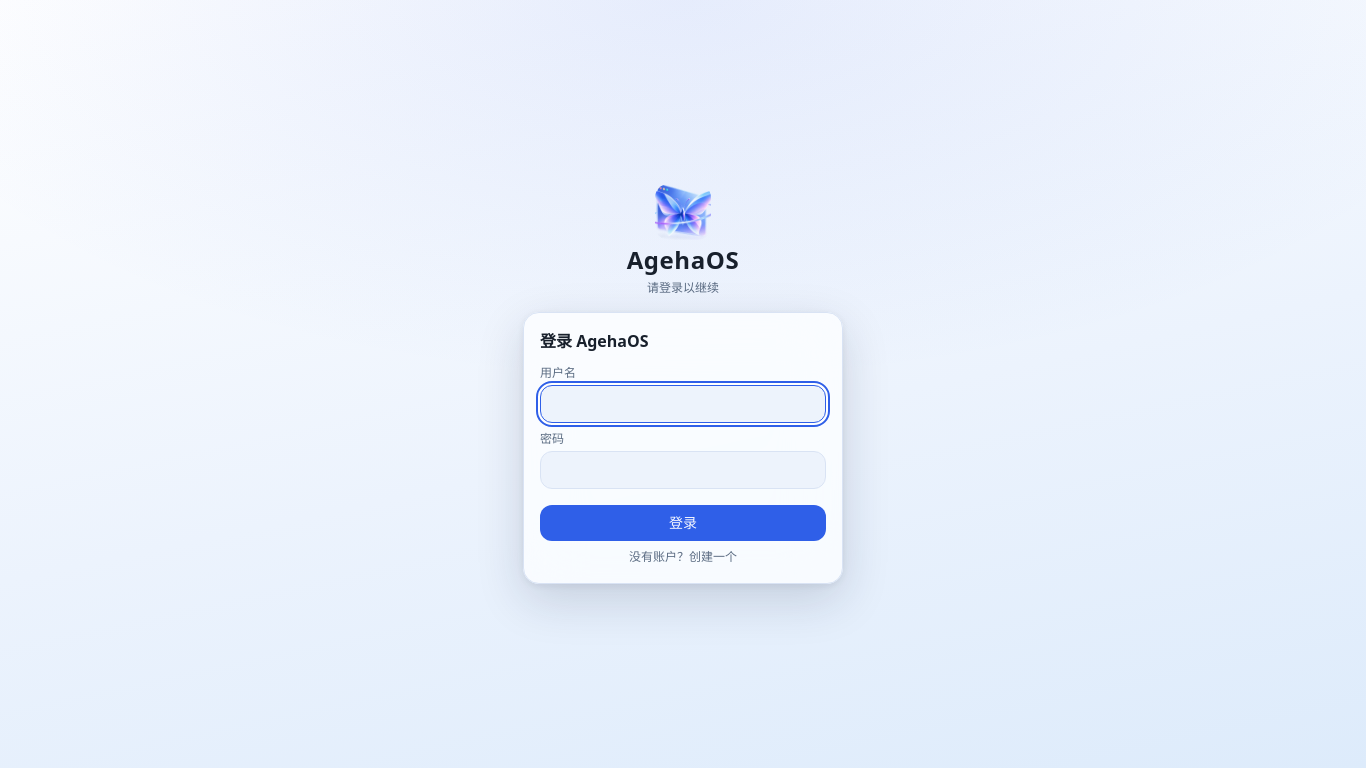
LoginScreen › shows an error for wrong credentials
In the field labelled "用户名": (683,404) [540,385,826,423], type "carol"
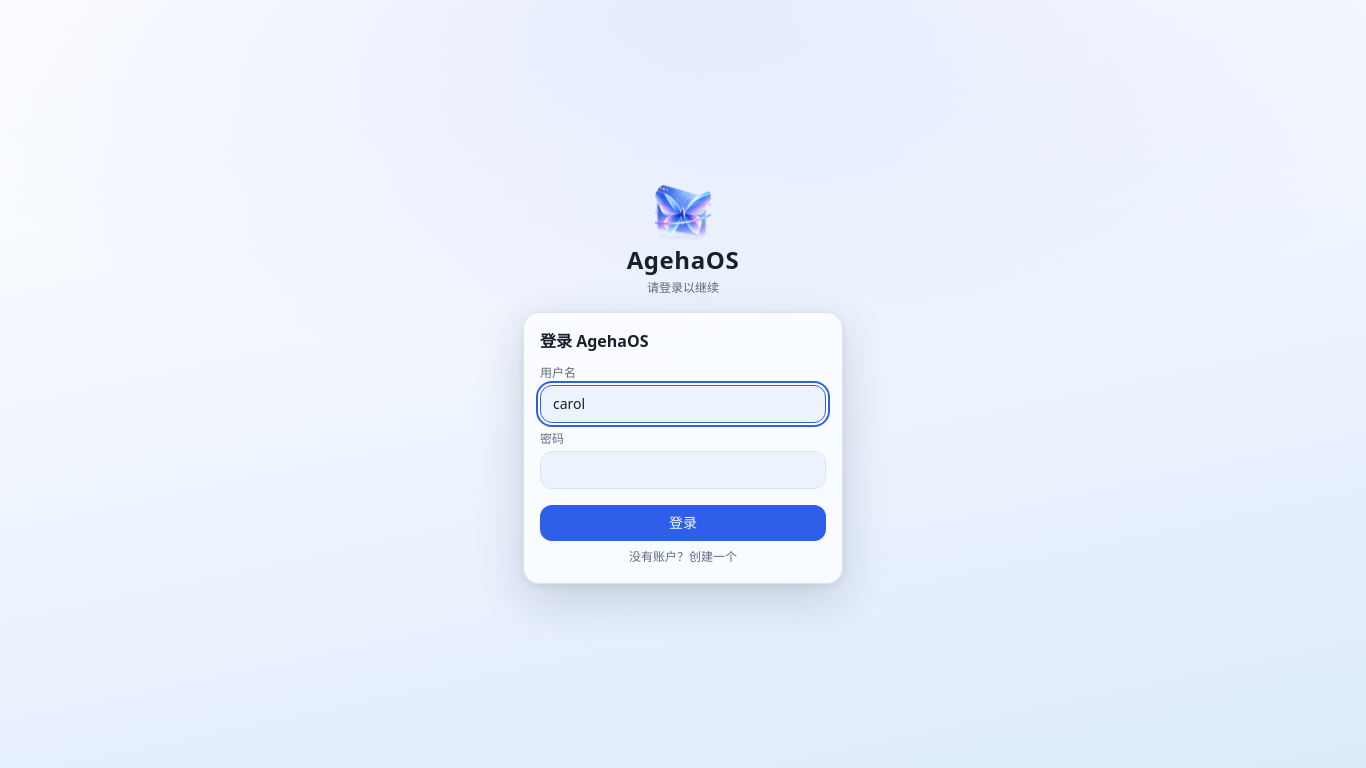
In the password field labelled "密码": (683,470) [540,451,826,489], type "wrong!!"
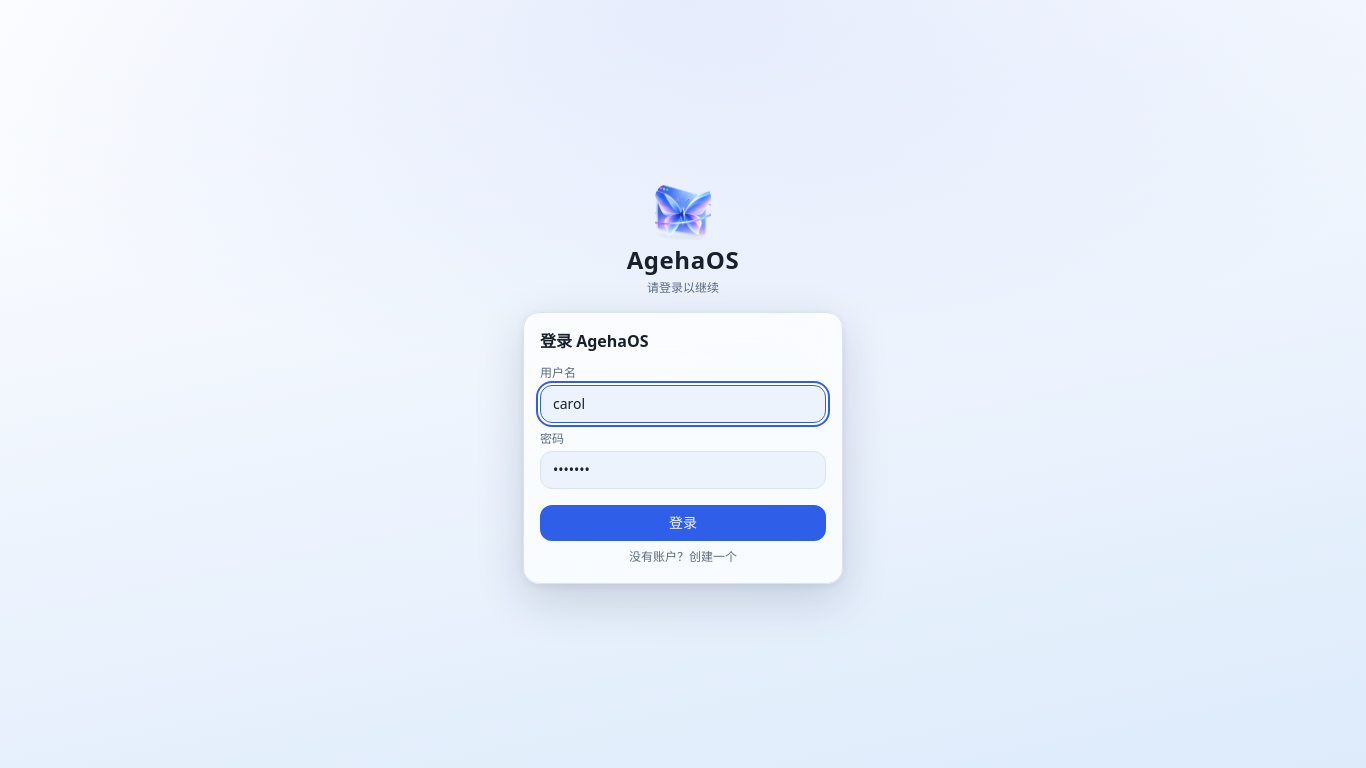
Click the button "登录": (683,523) [540,505,826,541]
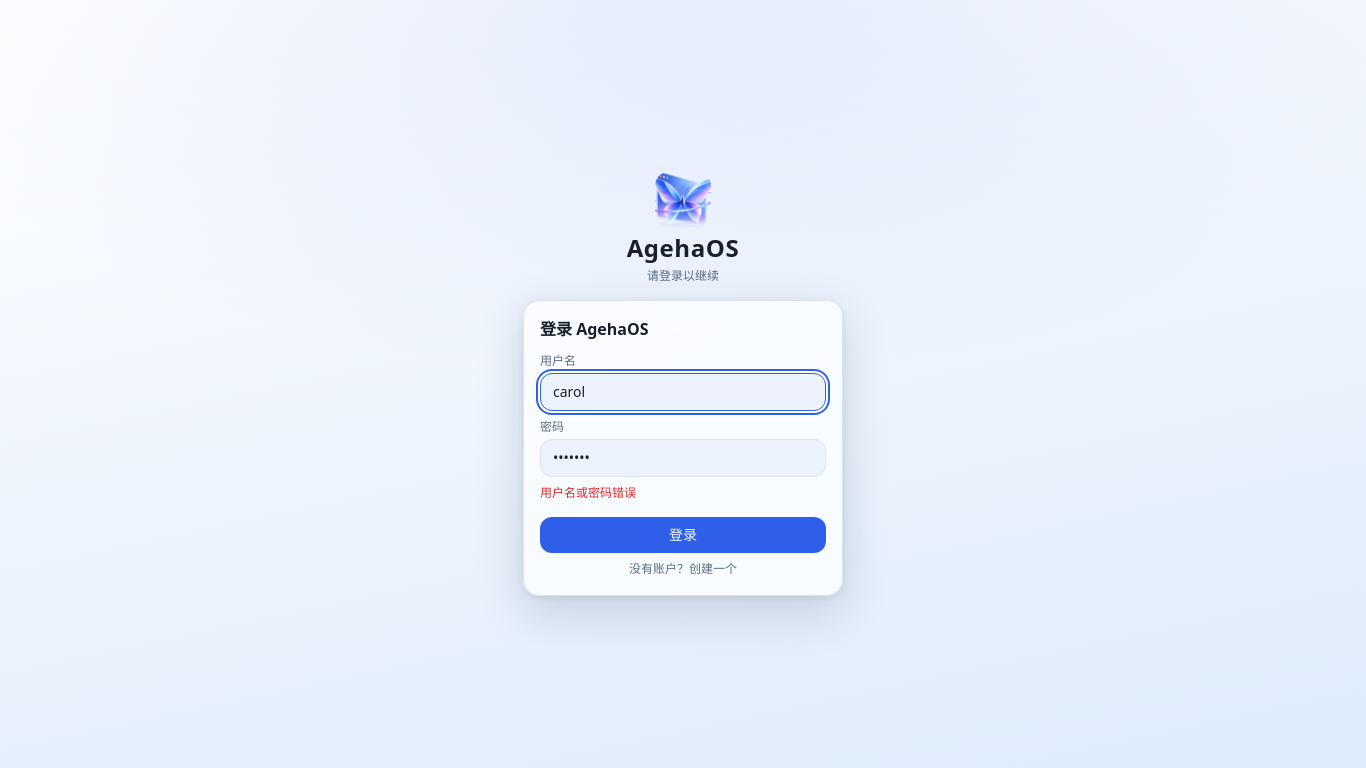
Check: the message reads "用户名或密码错误", box [540,484,636,501]
